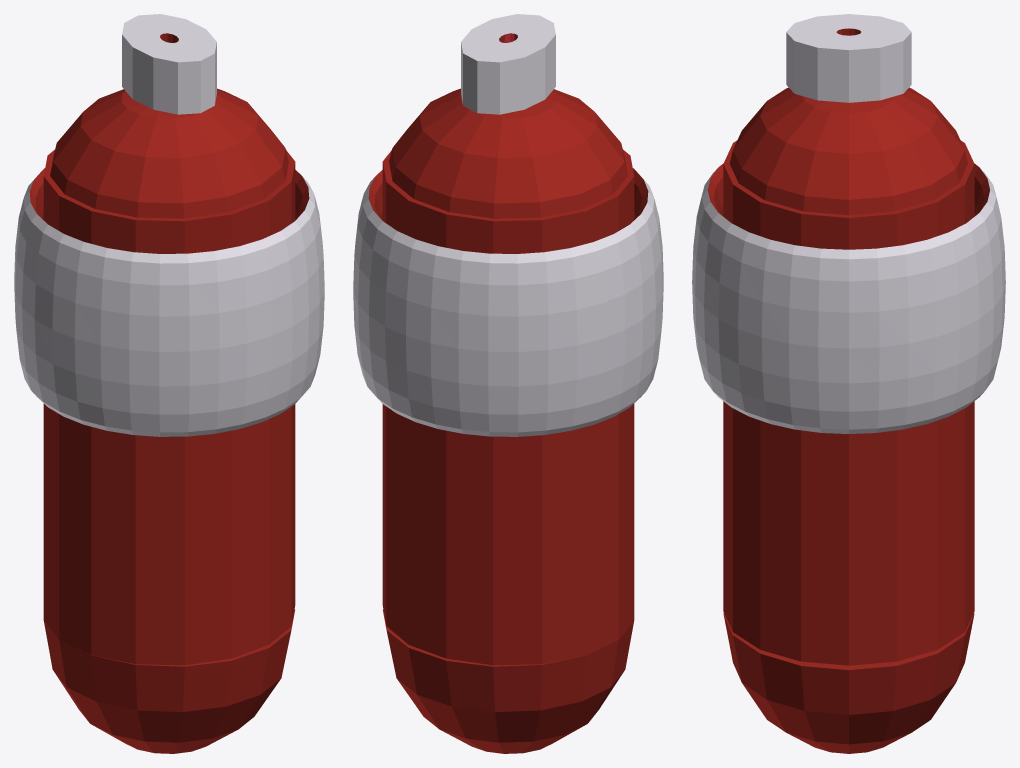
The model's file is cola_color.fbx.
The picture shows the model from 3 angles, left to right: view 1: azimuth 30°, elevation 25°; view 2: azimuth 150°, elevation 25°; view 3: azimuth 270°, elevation 25°; orthographic projection.
Parts seen in each view (by area): view 1: drink; view 2: drink; view 3: drink.
Part boxes in pixels (box(x1,y1,x2,y2)): drink: box(14, 14, 324, 753); drink: box(353, 14, 663, 753); drink: box(692, 14, 1005, 753).
Size of the model in its own units: 1 by 2.5 by 1.
